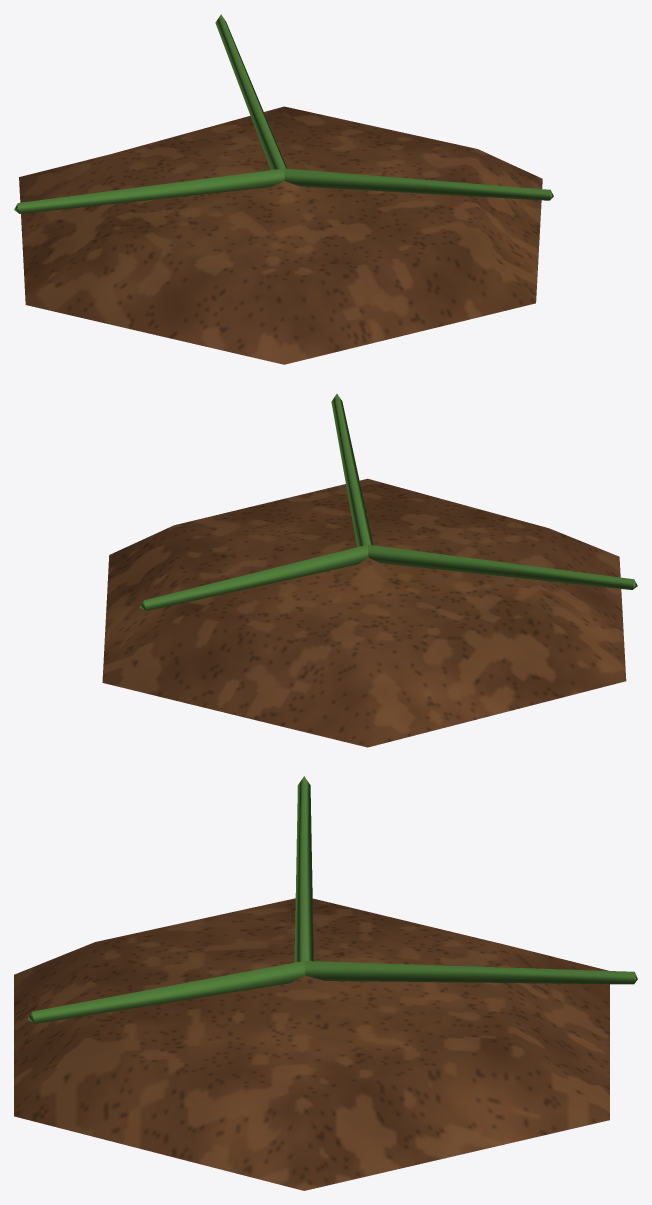
The model's file is plant-pumpkin-1-far.glb.
3 renders of one model, top to bottom at view 1: azimuth 30°, elevation 25°; view 2: azimuth 150°, elevation 25°; view 3: azimuth 270°, elevation 25°, orthographic. The views are drawn at different scales.
Parts seen in each view (by area): view 1: plant-pumpkin-1-far; view 2: plant-pumpkin-1-far; view 3: plant-pumpkin-1-far.
Part boxes in pixels (x1=…): plant-pumpkin-1-far: x1=14, y1=14, x2=553, y2=364; plant-pumpkin-1-far: x1=102, y1=394, x2=637, y2=747; plant-pumpkin-1-far: x1=14, y1=776, x2=637, y2=1190.
Bounding box in the file's own units: 1.01 × 0.1613 × 0.7617.
3 materials, 1 textured.
